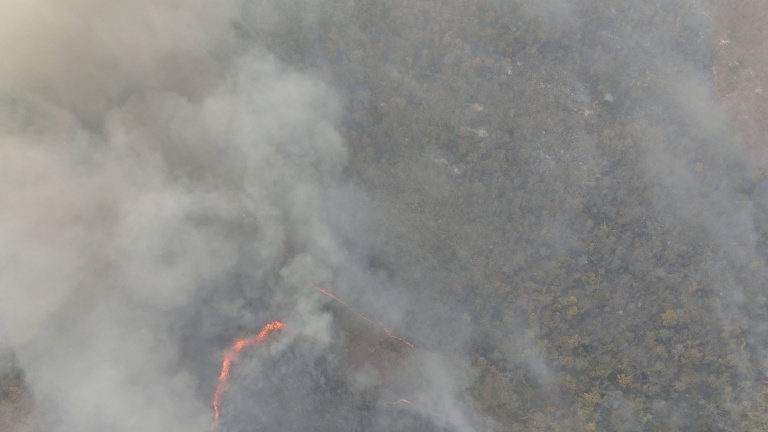fire: (208, 319, 292, 423), (287, 251, 366, 321), (370, 314, 427, 355), (387, 397, 420, 414)
smoke: (27, 2, 376, 296), (10, 154, 223, 417), (420, 359, 496, 431)
